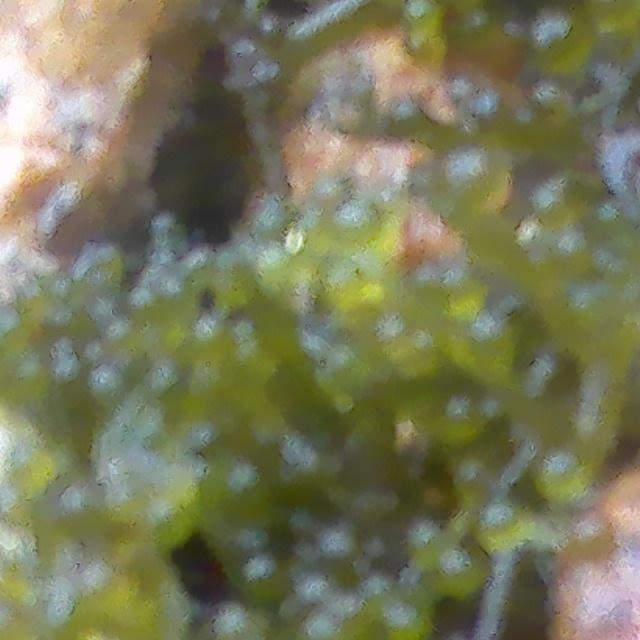SeaGrape: (444, 141, 517, 213), (529, 9, 597, 74), (330, 198, 389, 257), (474, 499, 524, 547), (535, 453, 583, 500), (381, 601, 431, 640), (438, 548, 479, 591), (393, 0, 444, 26)
